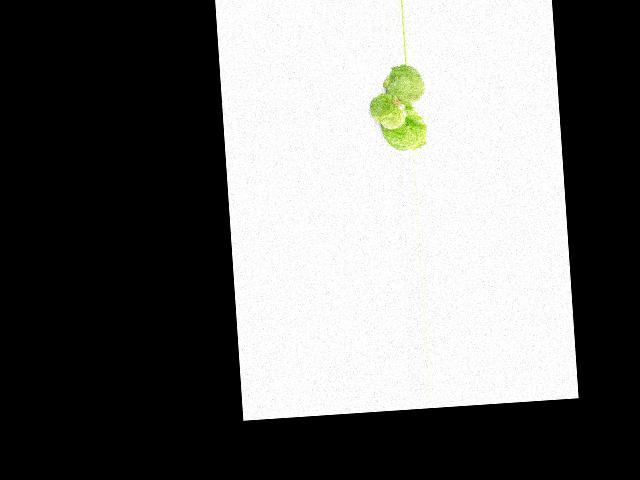lettuce: (383, 110, 425, 149)
